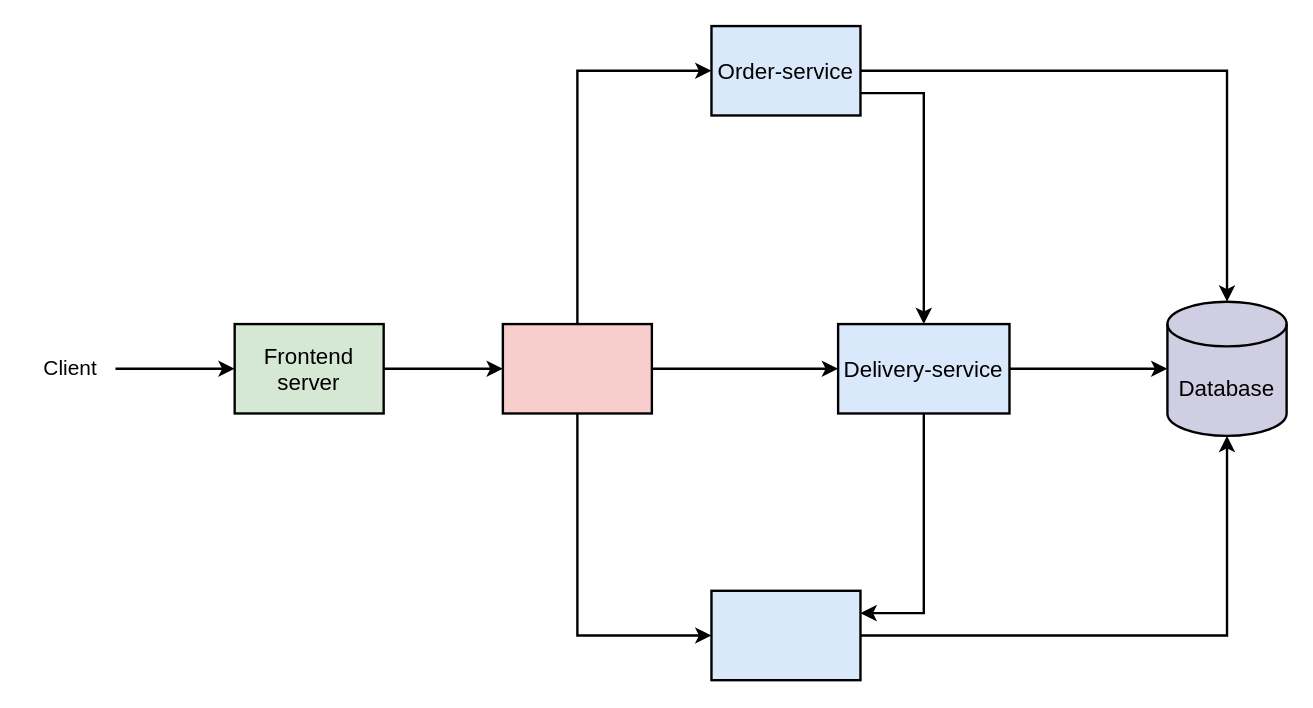
The diagram is 1313 pixels wide and 708 high, and some of its shapes have lost their labels. The shapes that lost their labels are listed below. From the top down, each one's centre as x and y in pixels, then its label:
At (x=576, y=368): "API Gateway".
At (x=785, y=635): "Stock-service".
